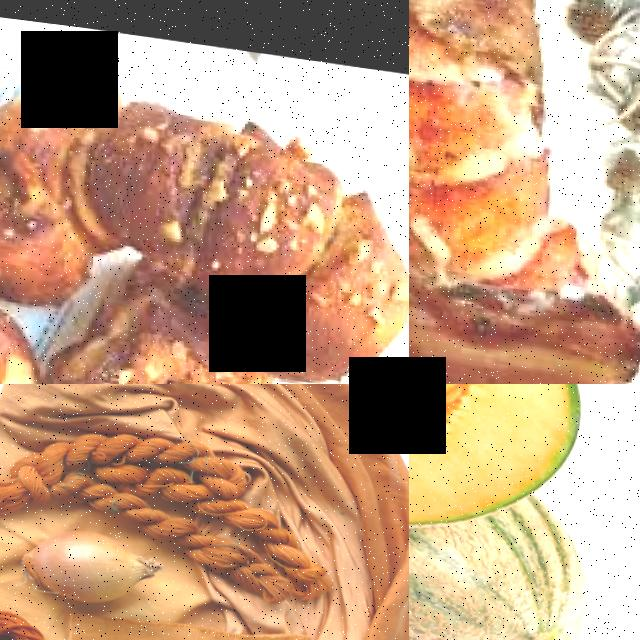lobster tails: (0, 41, 354, 324), (0, 284, 187, 384)
melon: (409, 481, 605, 640), (409, 384, 596, 509)
onion: (28, 513, 156, 606)
